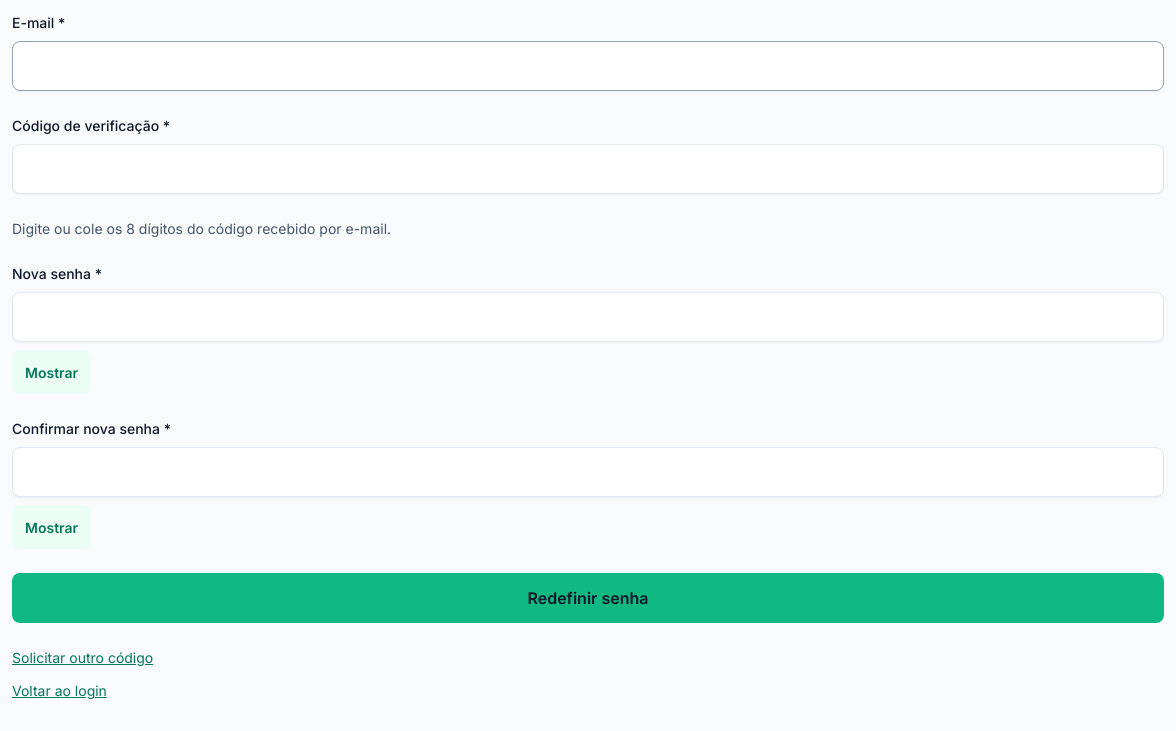
Test: password recovery forms › preserves values after HTTP and unexpected failures (reset=true)
Type "test@example.com" into the field labelled "E-mail *".
click(588, 66); type("test@example.com")  # box [12, 41, 1164, 91]
Click the field labelled "Código de verificação *".
click(588, 169)  # box [12, 144, 1164, 194]
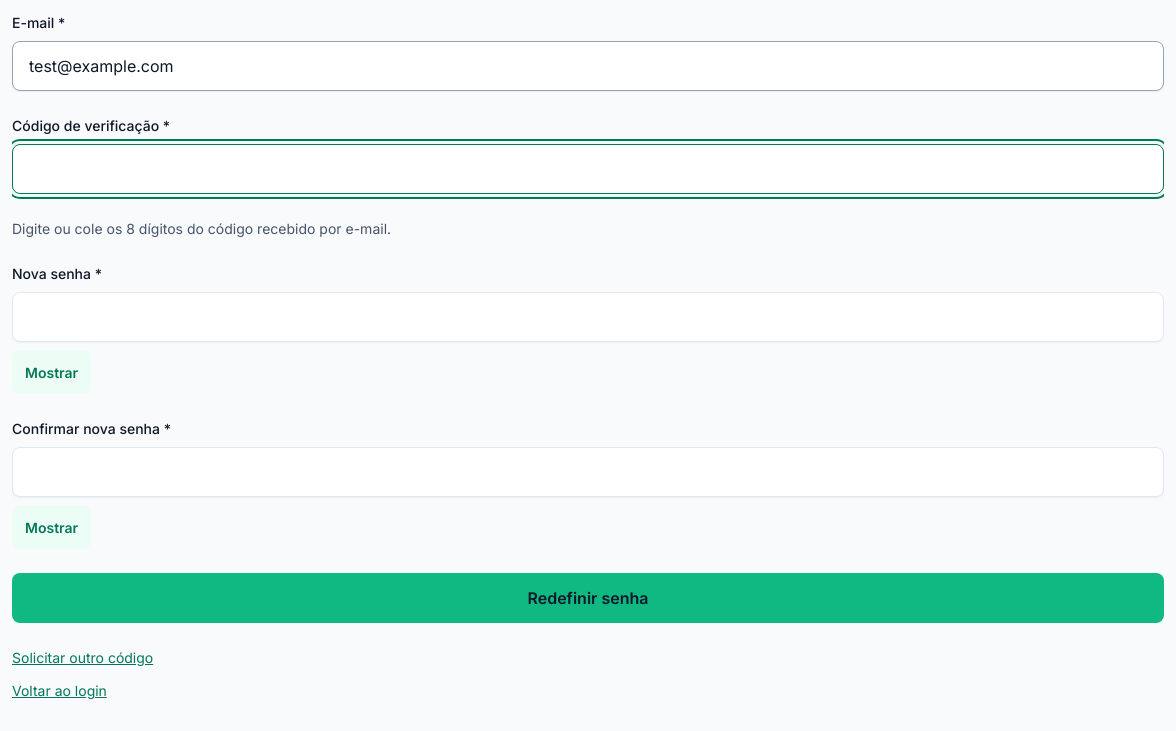
Type keys "00001234"
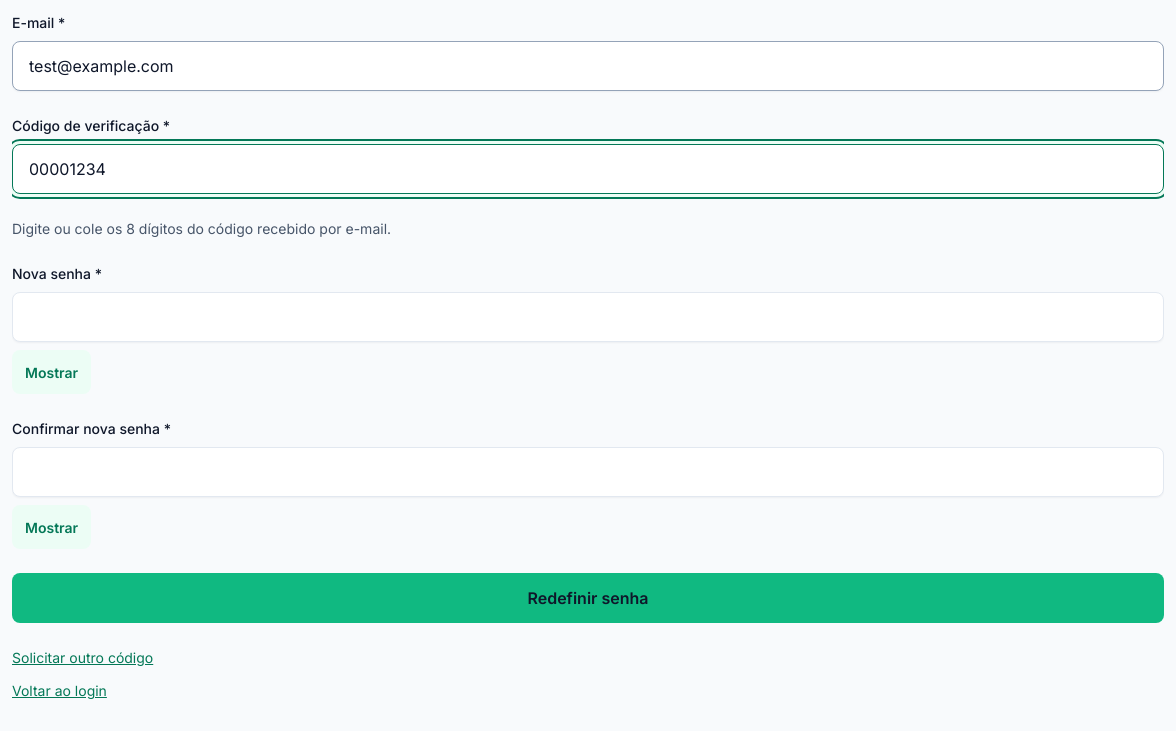
Type "x" into the password field labelled "Nova senha *".
click(588, 317); type("x")  # box [12, 292, 1164, 342]
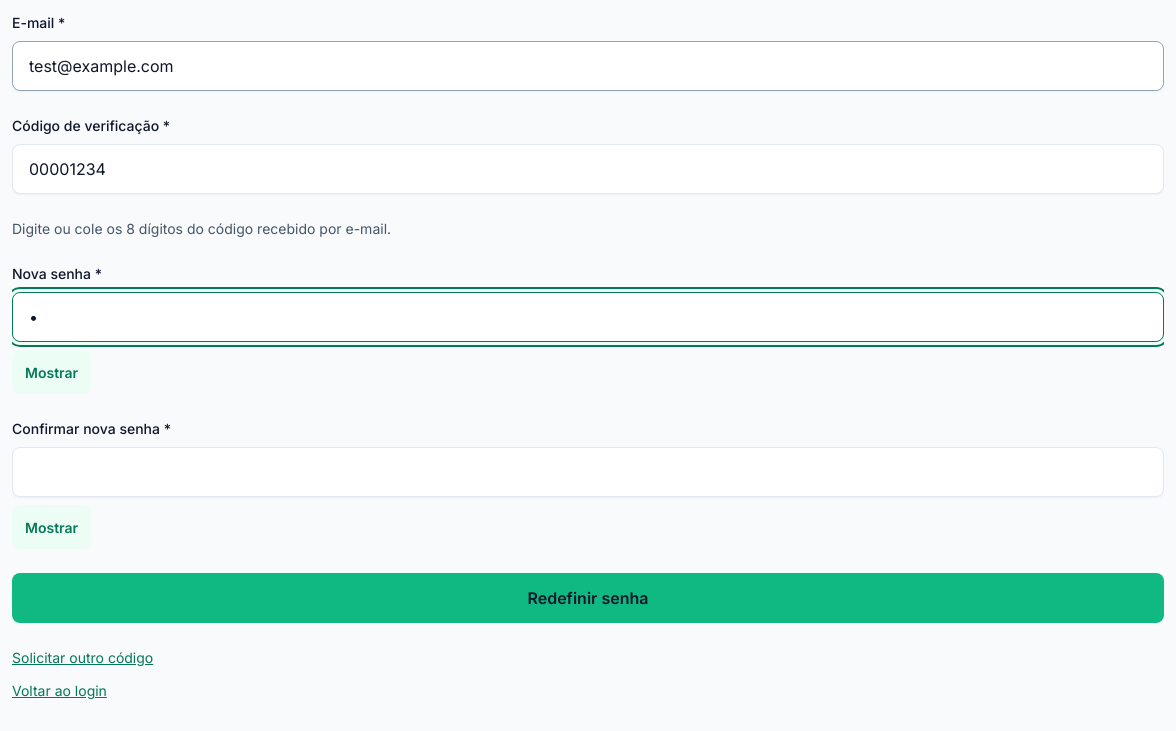
Type "x" into the password field labelled "Confirmar nova senha *".
click(588, 472); type("x")  # box [12, 447, 1164, 497]
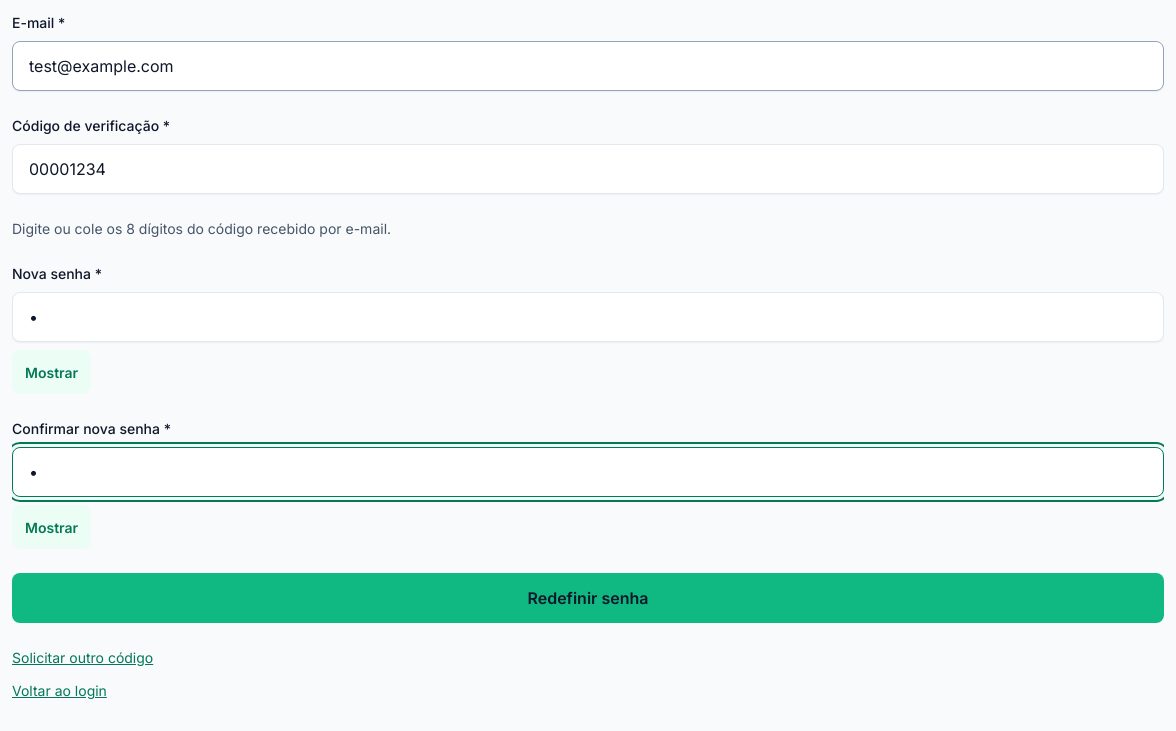
Click the button "Redefinir senha".
click(588, 598)  # box [12, 573, 1164, 623]
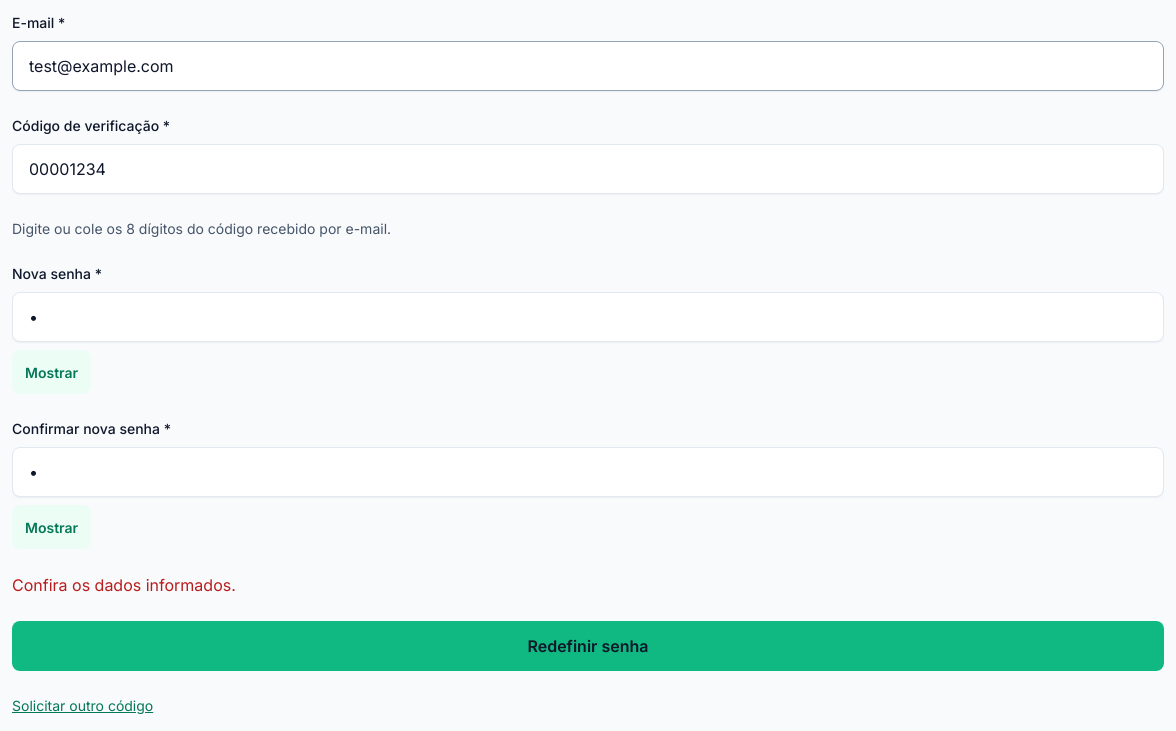
Result: the field labelled "Código de verificação *" holds "00001234" at [12, 144, 1164, 194]
Result: the message reads "Confira os dados informados." at [12, 575, 236, 595]
Click the button "Redefinir senha".
click(588, 646)  # box [12, 621, 1164, 671]
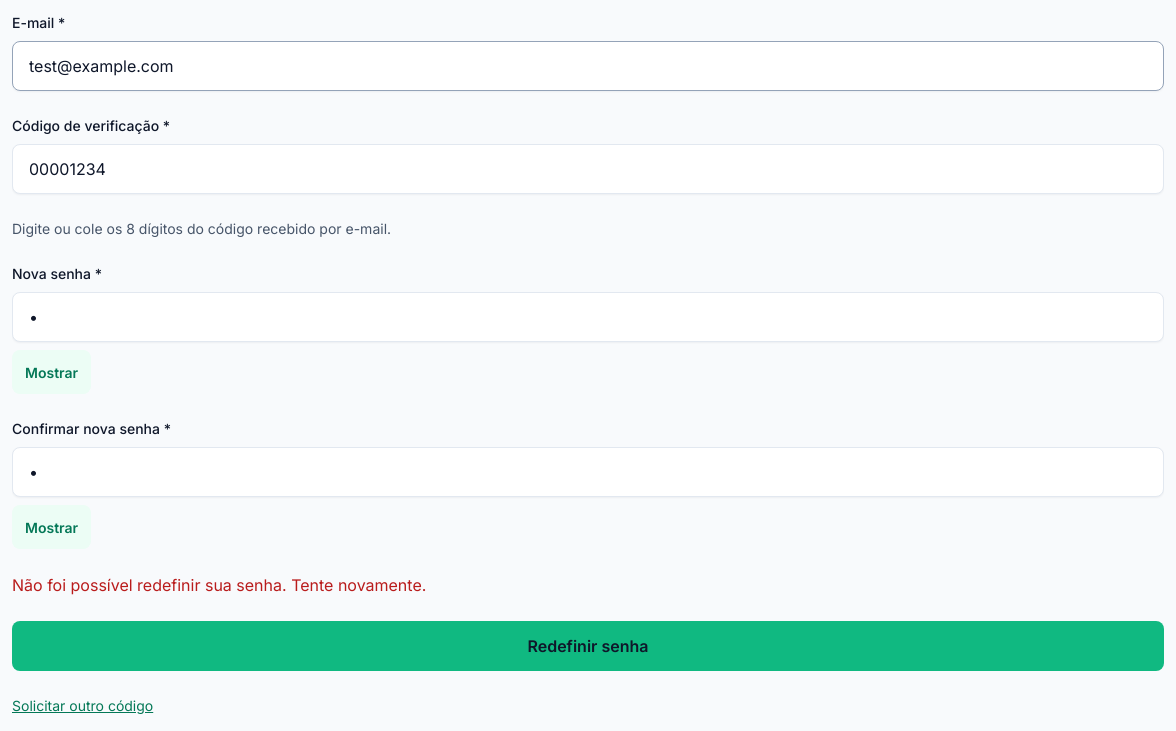
Result: the message shows "Tente novamente." at [12, 575, 426, 595]
